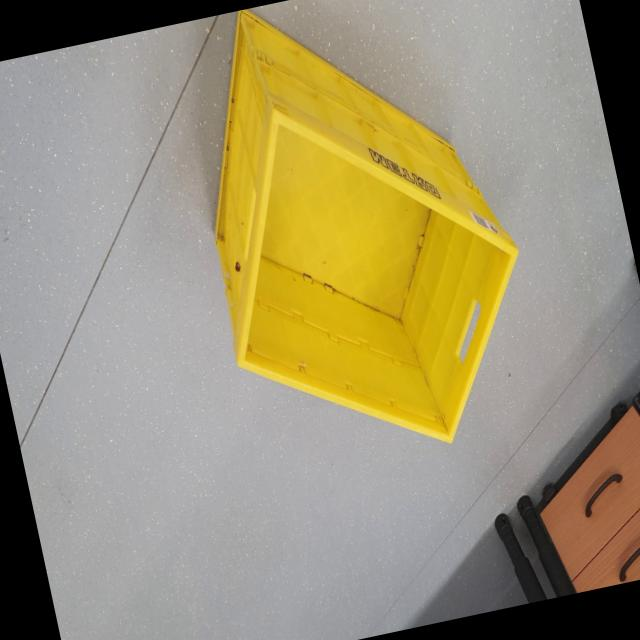box: (148, 0, 566, 501)
